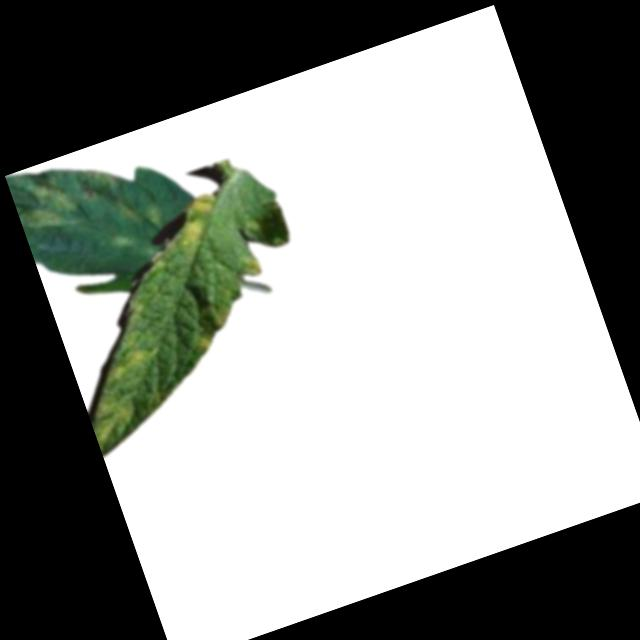Leaf_Mold: (5, 157, 84, 238), (168, 188, 231, 250), (97, 342, 158, 386), (241, 253, 266, 280), (191, 333, 215, 355)
